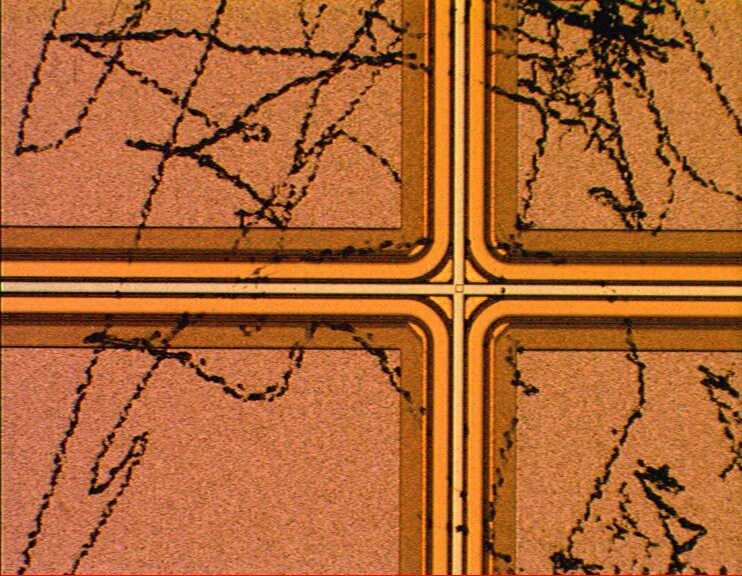SCRATCH: (7, 1, 742, 576)
